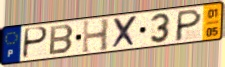3: (149, 11, 172, 45)
B: (48, 24, 76, 57)
H: (81, 17, 111, 55)
P: (173, 8, 204, 43), (21, 26, 50, 61)
X: (111, 14, 139, 50)
